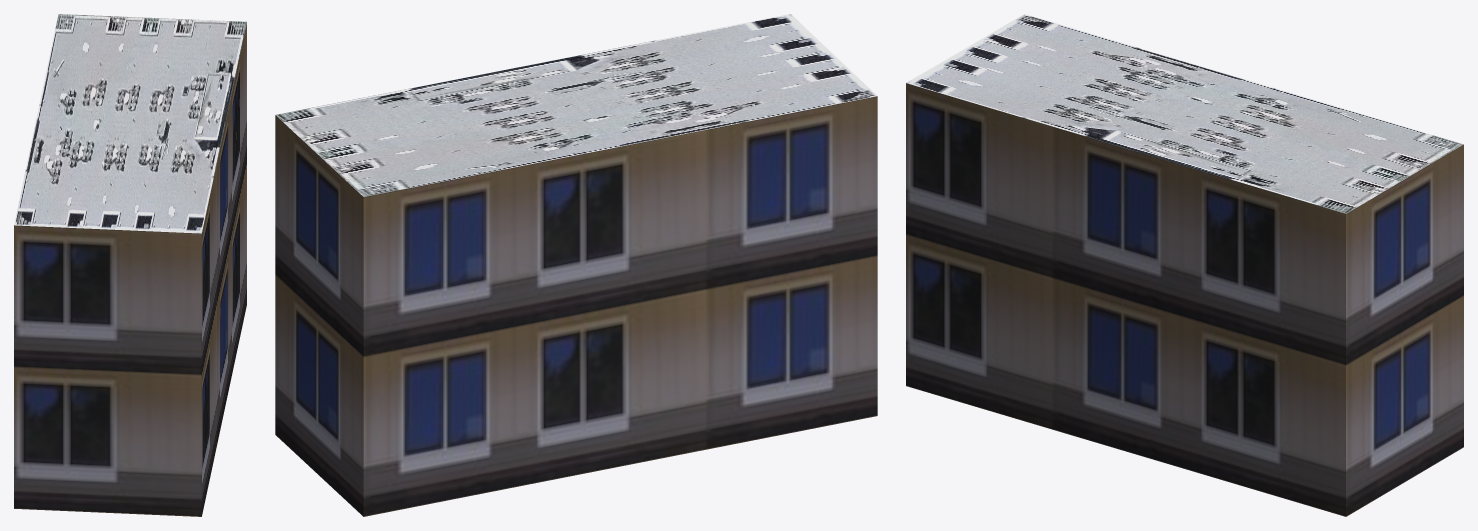
Rendered from ResTex__1986.fbx.
The picture shows the model from 3 angles, left to right: view 1: azimuth 30°, elevation 25°; view 2: azimuth 150°, elevation 25°; view 3: azimuth 270°, elevation 25°; orthographic projection. The views are drawn at different scales.
Parts seen in each view (by area): view 1: CityEngineMaterial_5_m, CityEngineMaterial_8_m; view 2: CityEngineMaterial_5_m, CityEngineMaterial_8_m; view 3: CityEngineMaterial_5_m, CityEngineMaterial_8_m.
Boxes of the visible parts, x1=… form: CityEngineMaterial_5_m: x1=14, y1=22, x2=246, y2=516; CityEngineMaterial_8_m: x1=14, y1=14, x2=246, y2=233; CityEngineMaterial_5_m: x1=275, y1=96, x2=877, y2=516; CityEngineMaterial_8_m: x1=275, y1=14, x2=877, y2=196; CityEngineMaterial_5_m: x1=906, y1=83, x2=1463, y2=516; CityEngineMaterial_8_m: x1=906, y1=14, x2=1463, y2=213.
Size of the model in its own units: 8.49 by 6 by 10.01.
Materials: 2 (2 with a texture image).
